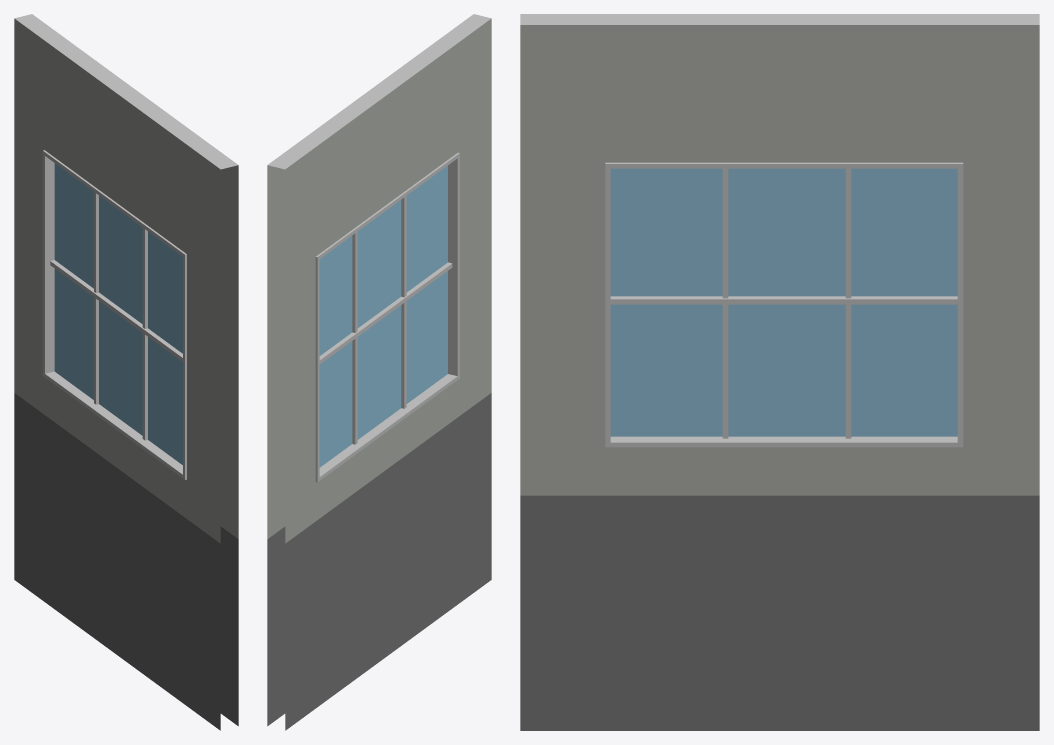
Rendered from SM_Window_02.fbx.
3 views of the same model, side by side, from view 1: azimuth 30°, elevation 25°; view 2: azimuth 150°, elevation 25°; view 3: azimuth 270°, elevation 25° (orthographic). The views are drawn at different scales.
Parts seen in each view (by area): view 1: SM_Window_02; view 2: SM_Window_02; view 3: SM_Window_02.
Part boxes in pixels (x1,y1,x2,y2): SM_Window_02: [14, 14, 238, 730]; SM_Window_02: [267, 14, 491, 730]; SM_Window_02: [520, 14, 1039, 730].
Bounding box in the file's own units: 12.34 × 300 × 200.
